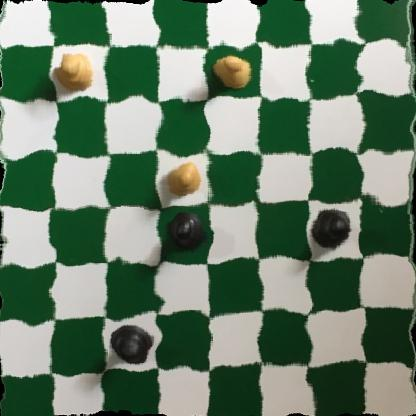black-pawn: (311, 203, 355, 255), (110, 318, 153, 365), (166, 209, 205, 258)
white-pawn: (55, 52, 97, 95), (212, 54, 255, 93), (162, 157, 200, 201)
